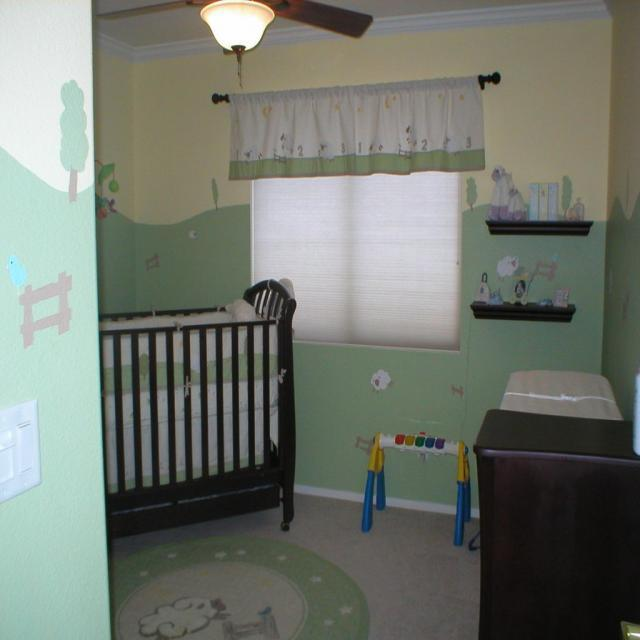fan_off: (169, 0, 377, 46)
